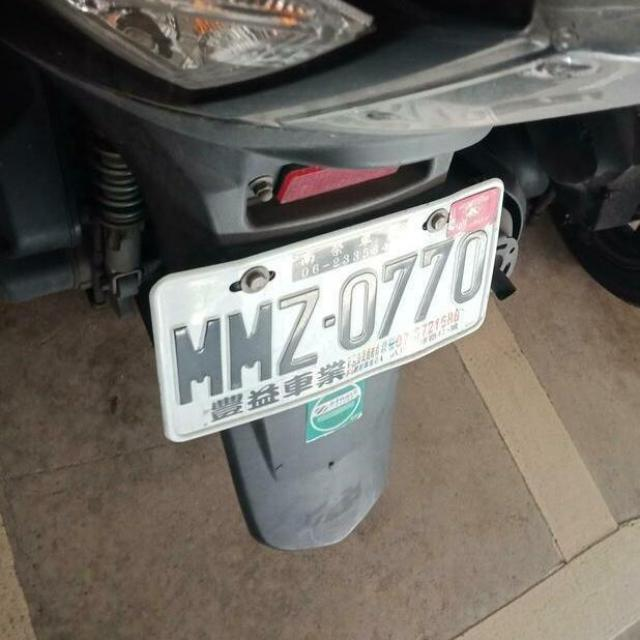W: (132, 182, 520, 448)
